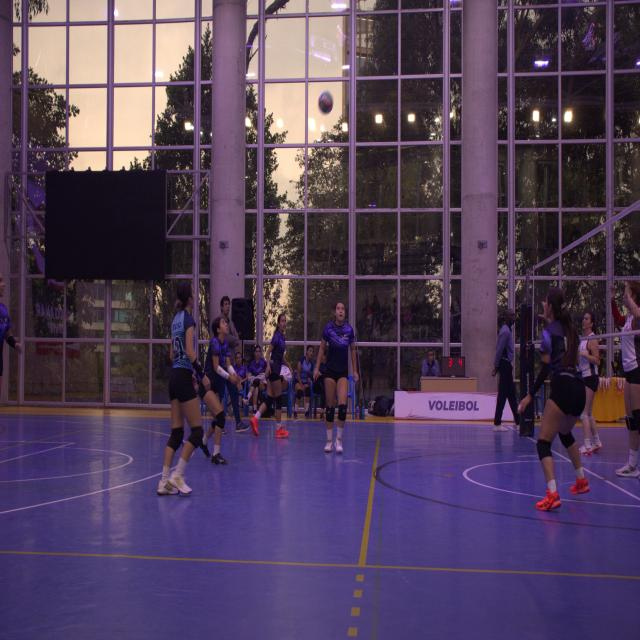volleyball: (318, 92, 332, 114)
